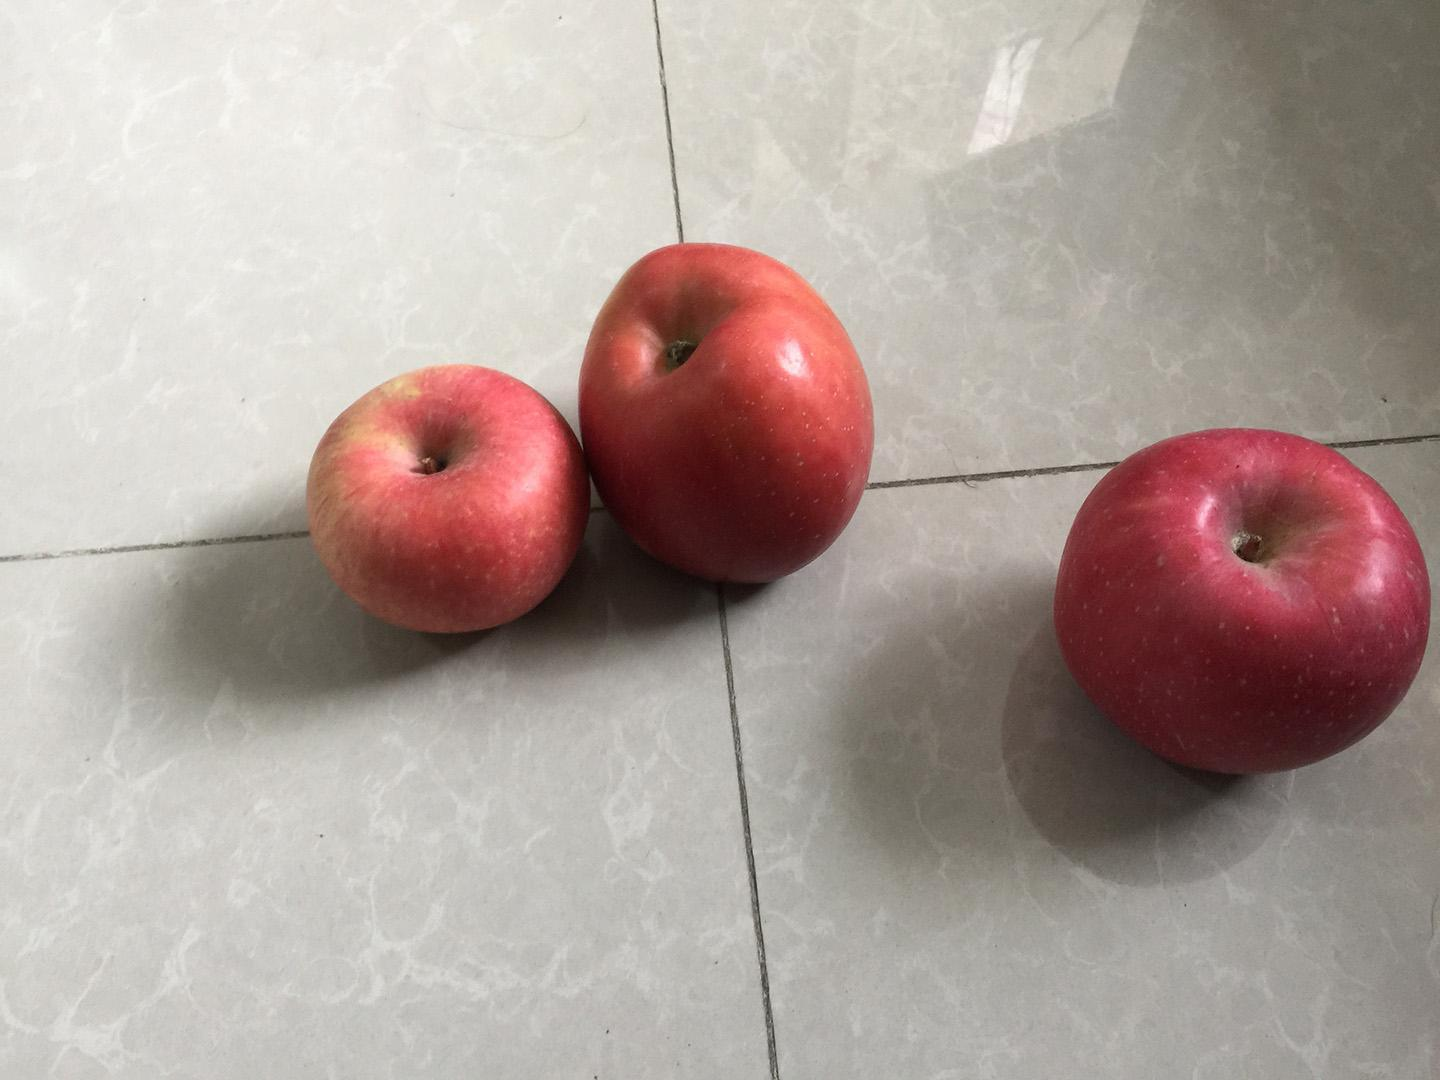apple: (1043, 413, 1434, 786), (566, 227, 896, 590), (297, 357, 594, 643)
